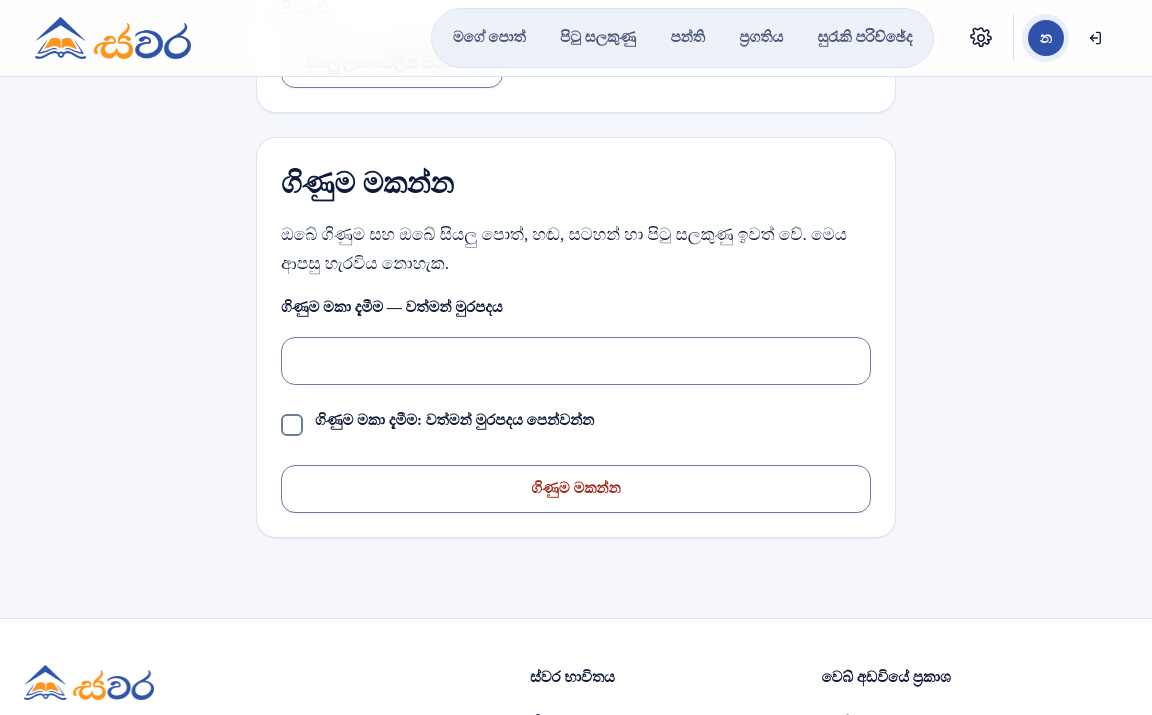
deleting the account › deletes everything once confirmed, and signs out
(page scrolled)
In the password field labelled "ගිණුම මකා දැමීම — වත්මන් මුරපදය": (576, 361) [281, 337, 871, 385], type "a-long-enough-password"
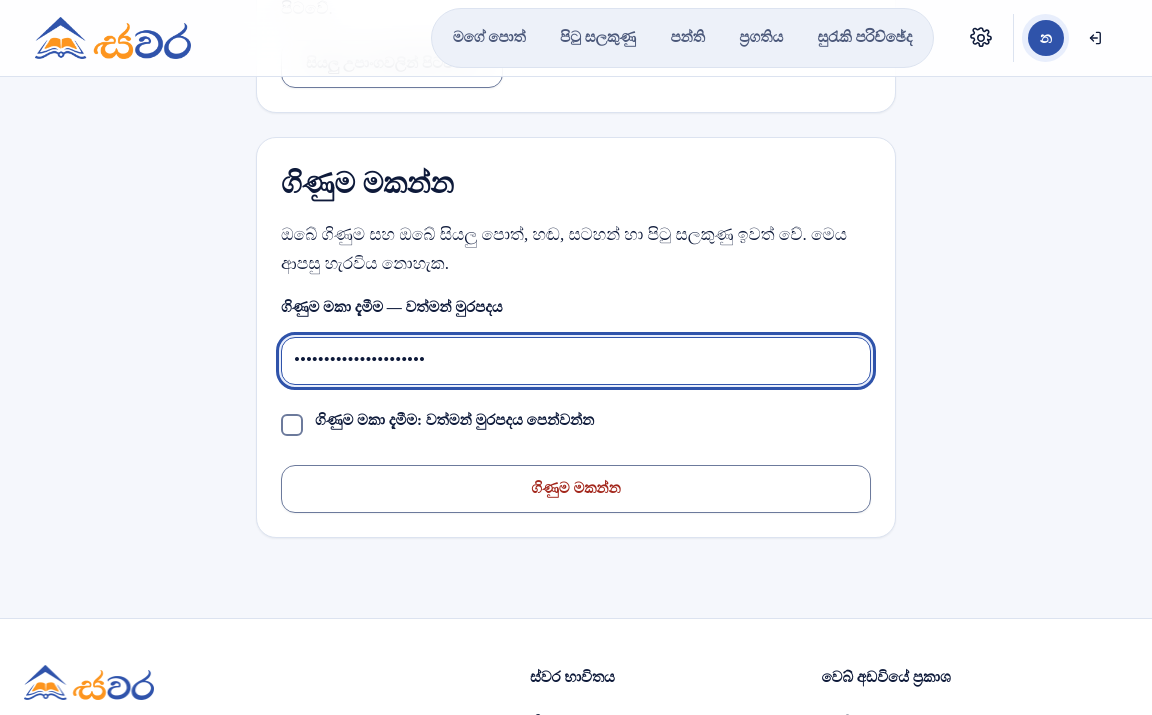
Click the button "ගිණුම මකන්න": (576, 489) [281, 465, 871, 513]
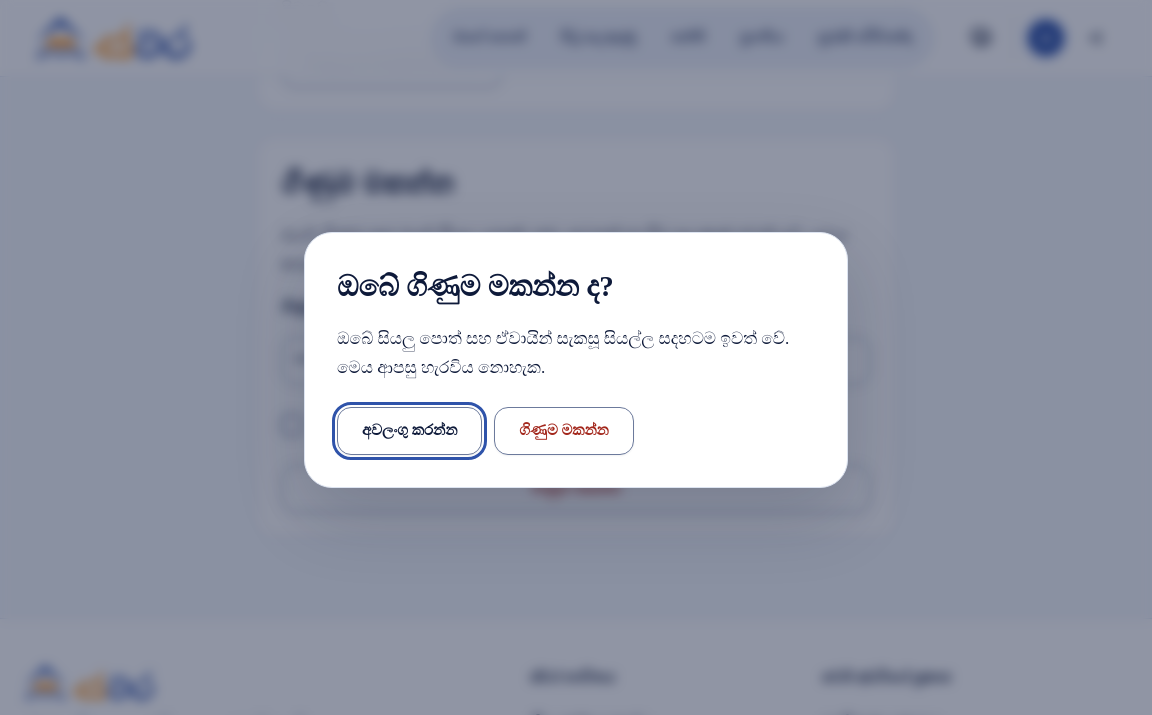
Click the button "ගිණුම මකන්න": (564, 431) [494, 407, 634, 455]
(page scrolled)
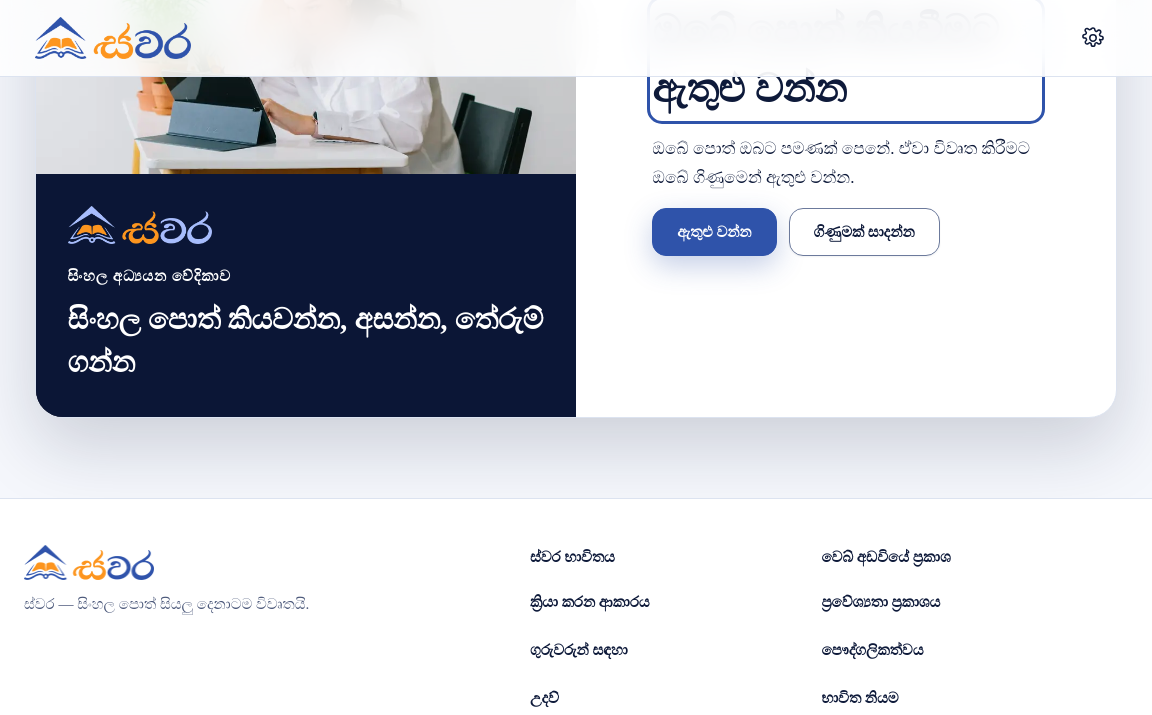
Expected: the heading "ඔබේ පොත් කියවීමට ඇතුළු වන්න" is shown, [652, 1, 1040, 119]
